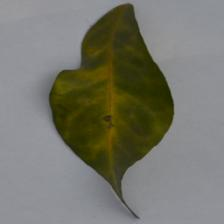greening: (46, 4, 172, 105)
